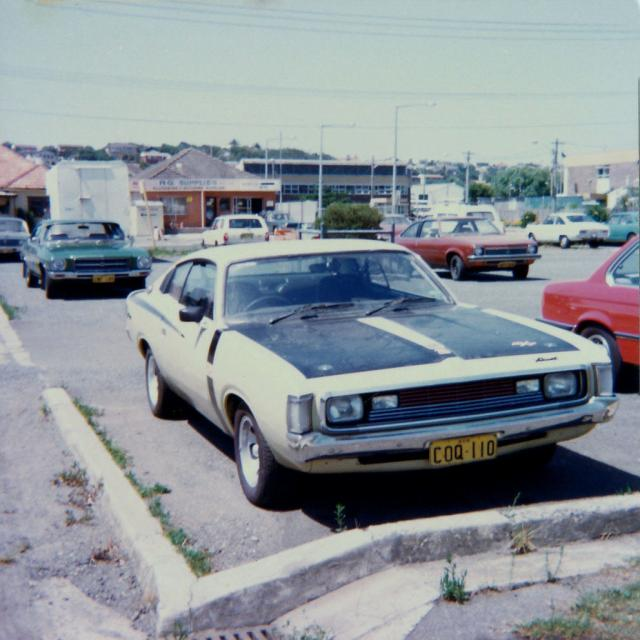car: (98, 216, 601, 488), (22, 215, 147, 296), (387, 214, 536, 276), (201, 215, 268, 245)
